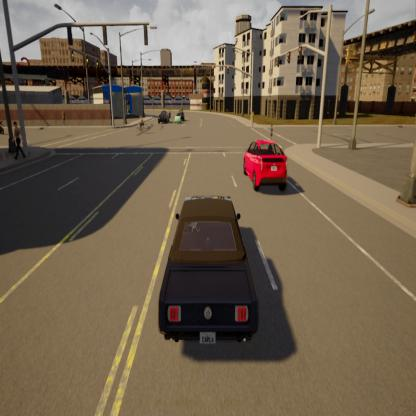Cars: (151, 186, 266, 358), (238, 134, 296, 200), (157, 110, 172, 126), (174, 112, 180, 124)
Pedestrian: (9, 122, 27, 160), (269, 121, 277, 142)
